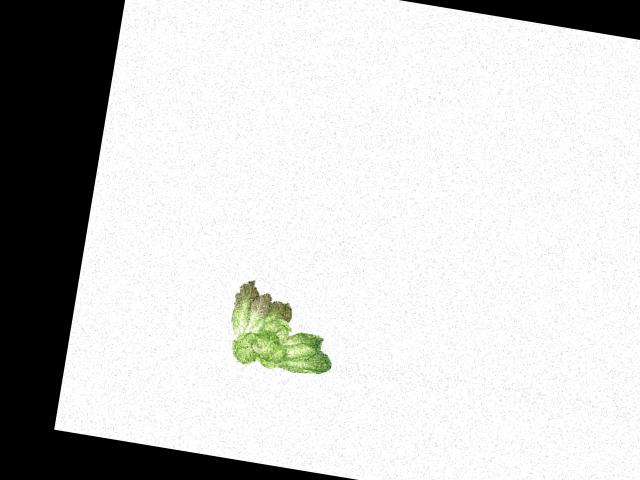lettuce: (221, 272, 344, 384)
